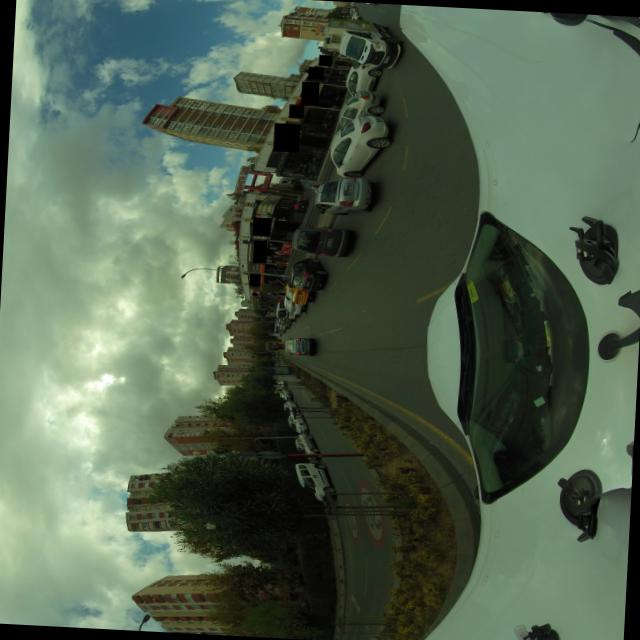SignStore: (273, 123, 300, 151), (301, 81, 320, 105), (253, 216, 271, 236), (253, 239, 267, 263), (308, 66, 324, 79), (289, 104, 304, 117), (250, 273, 261, 286), (319, 54, 332, 65), (253, 292, 259, 295)
